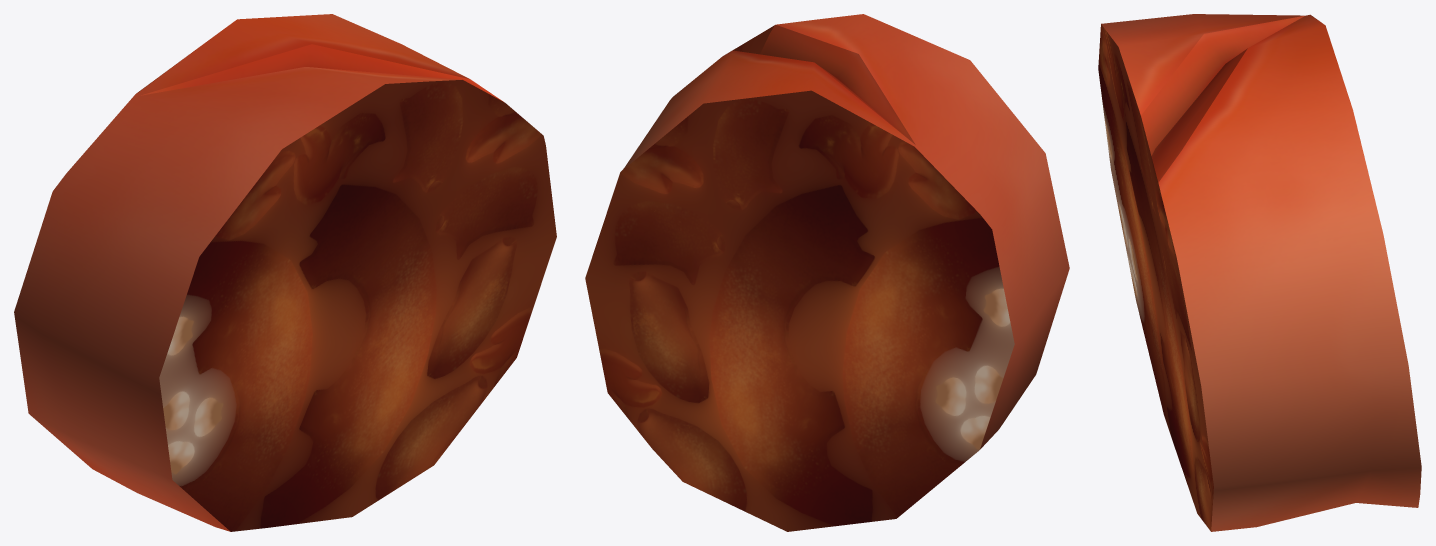
The model's file is Sausage04.fbx.
3 renders of one model, left to right at view 1: azimuth 30°, elevation 25°; view 2: azimuth 150°, elevation 25°; view 3: azimuth 270°, elevation 25°, orthographic. The views are drawn at different scales.
Visible parts, largest first — view 1: Sausage04; view 2: Sausage04; view 3: Sausage04.
Boxes of the visible parts, x1=… form: Sausage04: x1=14, y1=14, x2=556, y2=531; Sausage04: x1=585, y1=14, x2=1069, y2=531; Sausage04: x1=1098, y1=14, x2=1421, y2=531.
Size of the model in its own units: 0.1294 by 0.12 by 0.0749.
